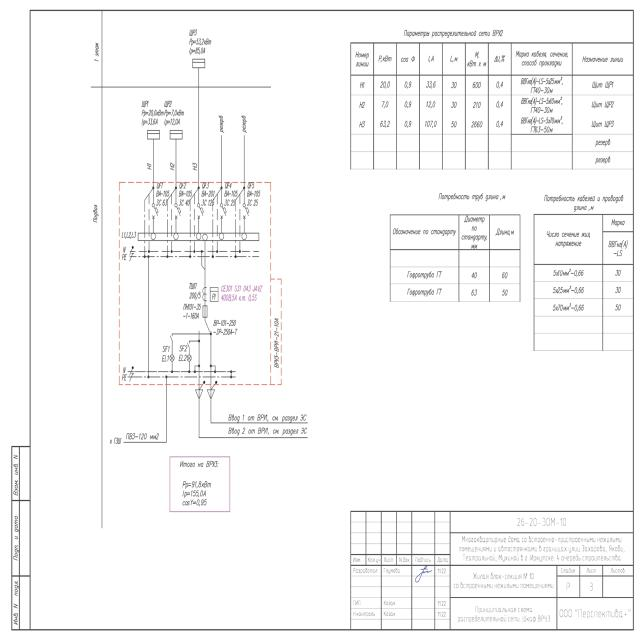-: (221, 285, 264, 303), (212, 318, 237, 336), (273, 317, 280, 369), (182, 302, 202, 320), (188, 282, 202, 300), (178, 190, 192, 208), (156, 189, 170, 206), (224, 190, 238, 207), (201, 190, 215, 207), (247, 190, 261, 207)
FU: (202, 304, 208, 318)
HL: (169, 354, 175, 362), (187, 354, 192, 361)
QF: (242, 202, 250, 220), (151, 202, 159, 220), (196, 202, 204, 220), (219, 203, 227, 220), (174, 202, 181, 220), (170, 334, 173, 342), (187, 341, 190, 348)
TT: (202, 286, 208, 302)
WH: (210, 286, 218, 301)
switch: (198, 320, 212, 336)
